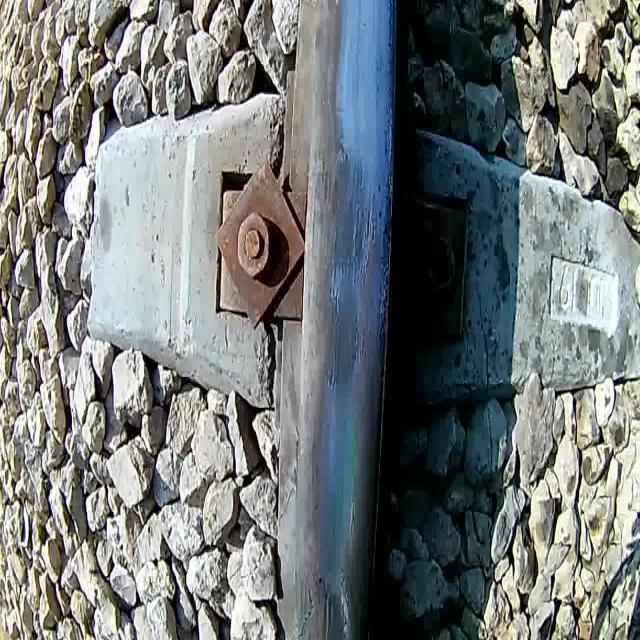Cracks: (350, 143, 382, 286), (322, 221, 347, 325), (319, 343, 344, 392), (347, 488, 359, 541)
Flakings: (376, 0, 396, 485)
Squats: (319, 148, 376, 285), (308, 273, 370, 393), (299, 558, 354, 640)
